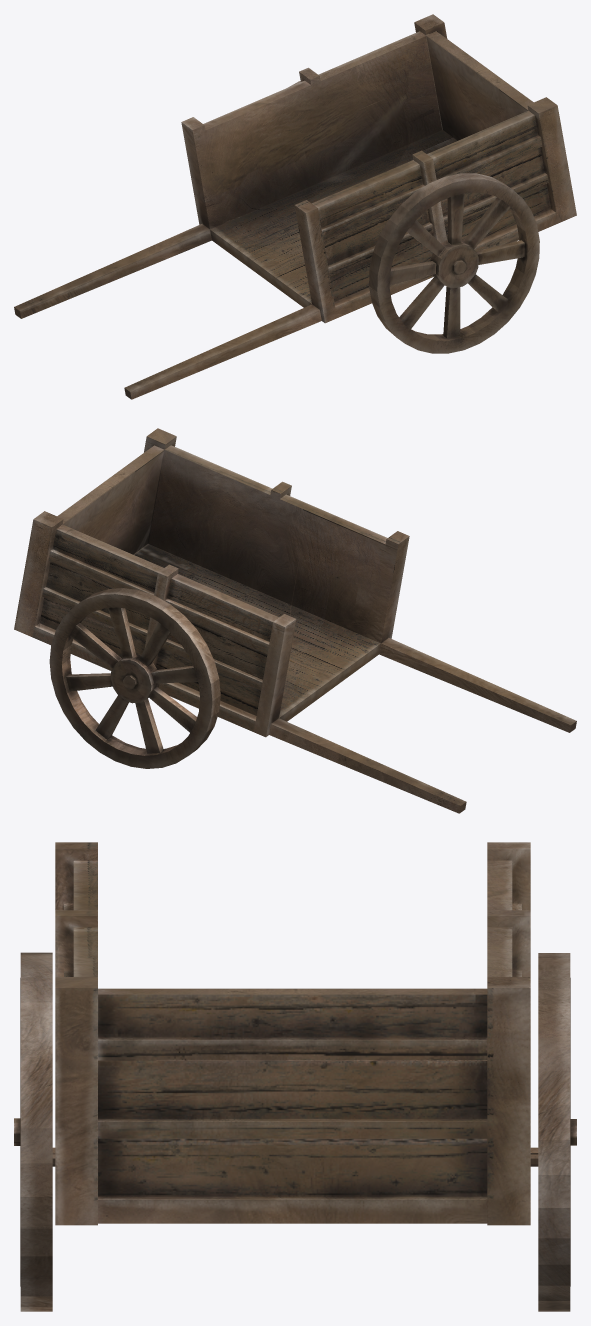
File: cart_2.fbx
3 renders of one model, top to bottom at view 1: azimuth 30°, elevation 25°; view 2: azimuth 150°, elevation 25°; view 3: azimuth 270°, elevation 25°, orthographic. The views are drawn at different scales.
Visible parts, largest first — view 1: cart, wheel; view 2: cart, wheel.001; view 3: cart, wheel, wheel.001.
Boxes of the visible parts, left/top/right/bottom form: cart: left=14, top=14, right=576, bottom=399; wheel: left=369, top=173, right=539, bottom=353; cart: left=14, top=428, right=576, bottom=813; wheel.001: left=49, top=588, right=220, bottom=768; cart: left=52, top=842, right=538, bottom=1225; wheel: left=14, top=952, right=52, bottom=1311; wheel.001: left=538, top=953, right=576, bottom=1311.
Size of the model in its own units: 334 by 154 by 193.
